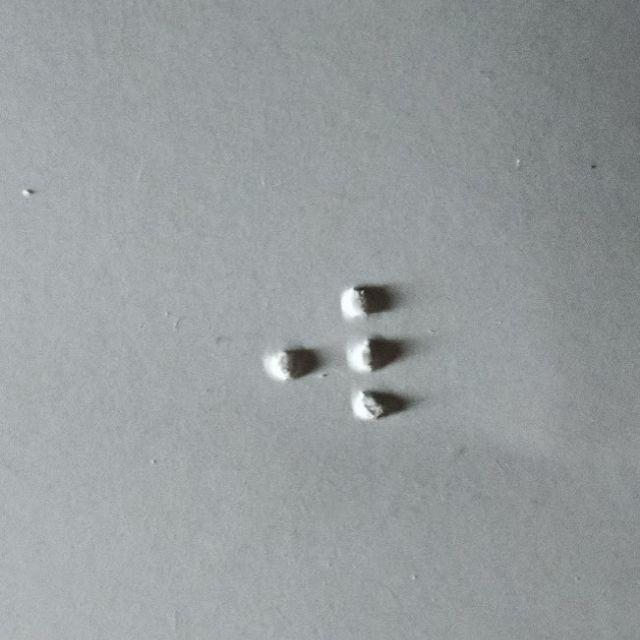dot_5: (208, 285, 312, 423)
larawan: (340, 285, 444, 423)
